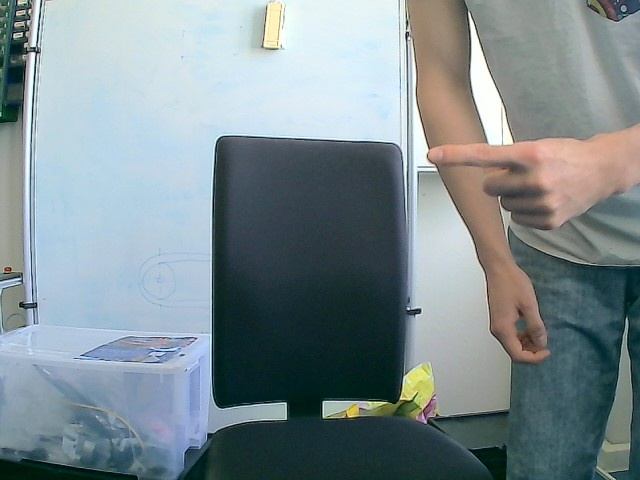no_gesture: (481, 258, 553, 366)
right: (426, 135, 609, 232)
